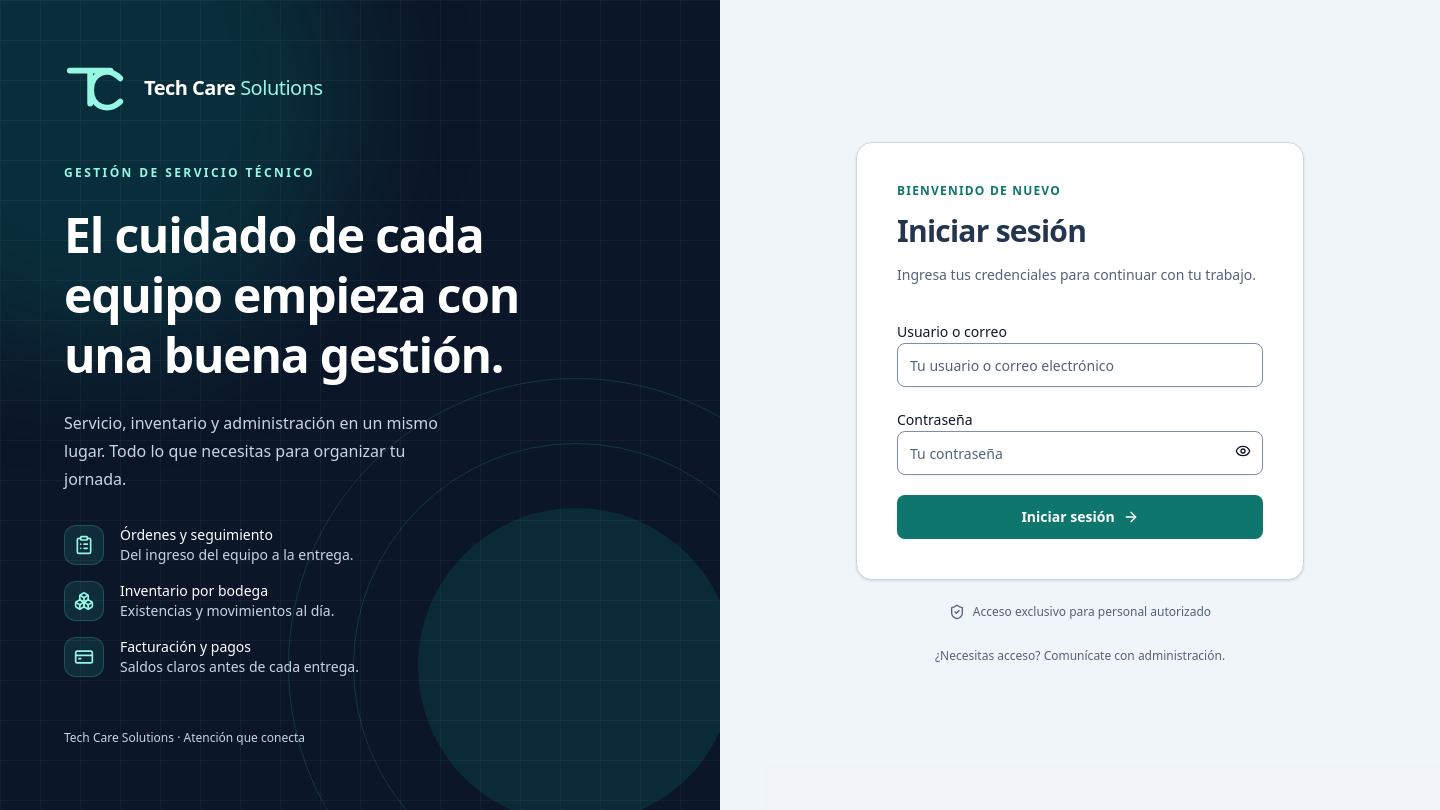
Scenario: inicio de sesión › muestra y oculta contraseña conservando sus espacios
In the password field labelled "Contraseña": (1080, 453) [897,431,1263,475], type " clave de prueba "
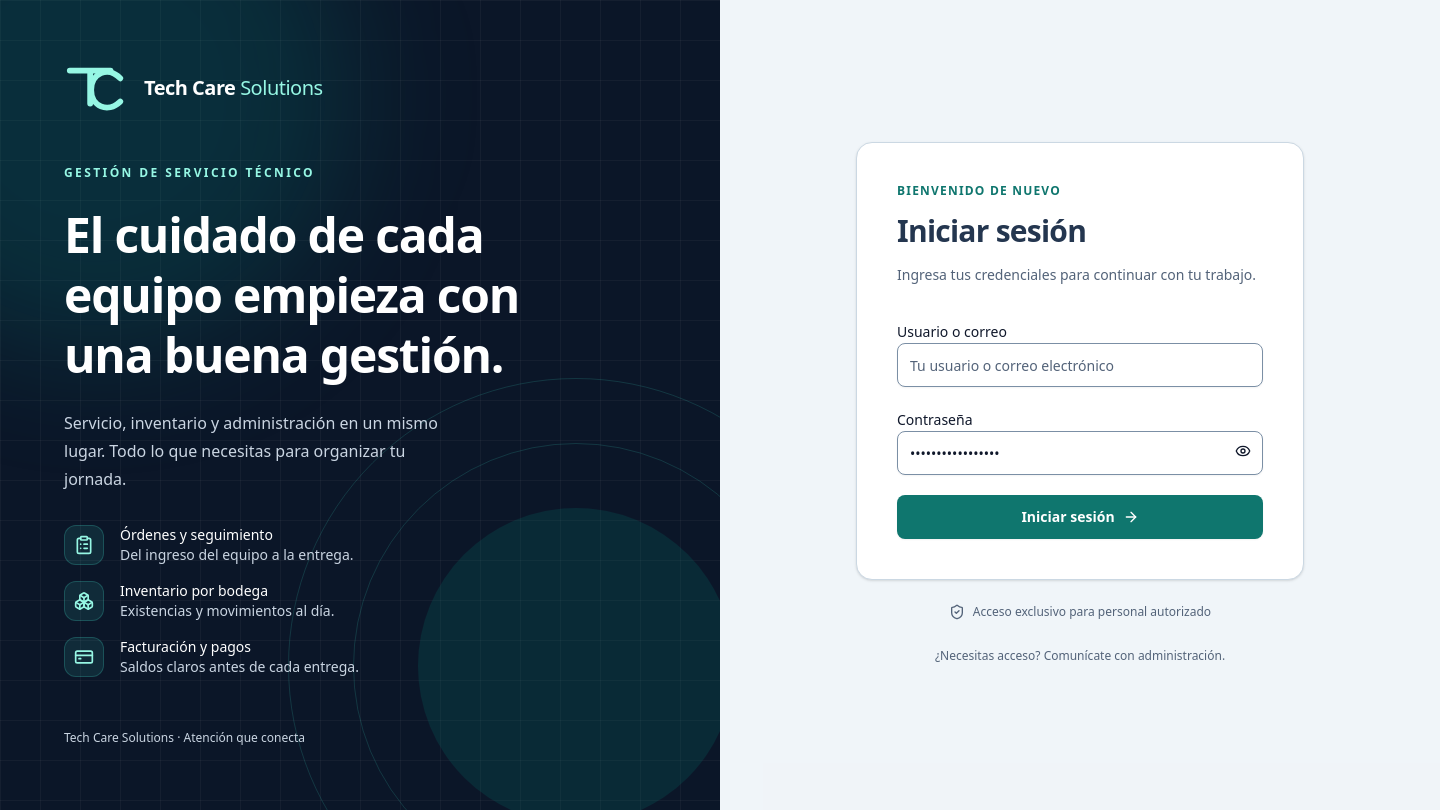
Click the button named "Mostrar contraseña": (1243, 451) [1223,431,1263,471]
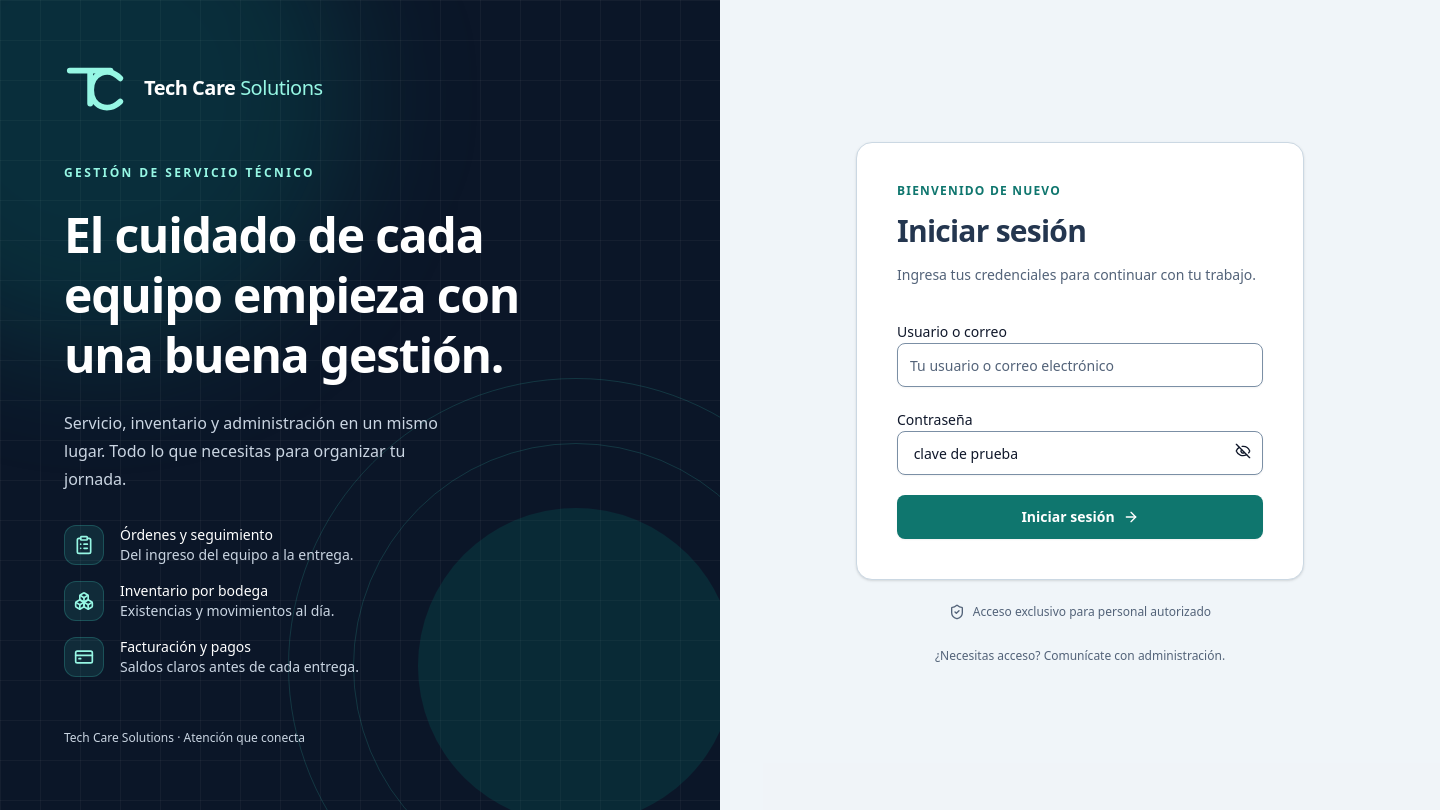
Result: the field labelled "Contraseña" shows its text at [897,431,1263,475]
Click the button named "Ocultar contraseña": (1243, 451) [1223,431,1263,471]
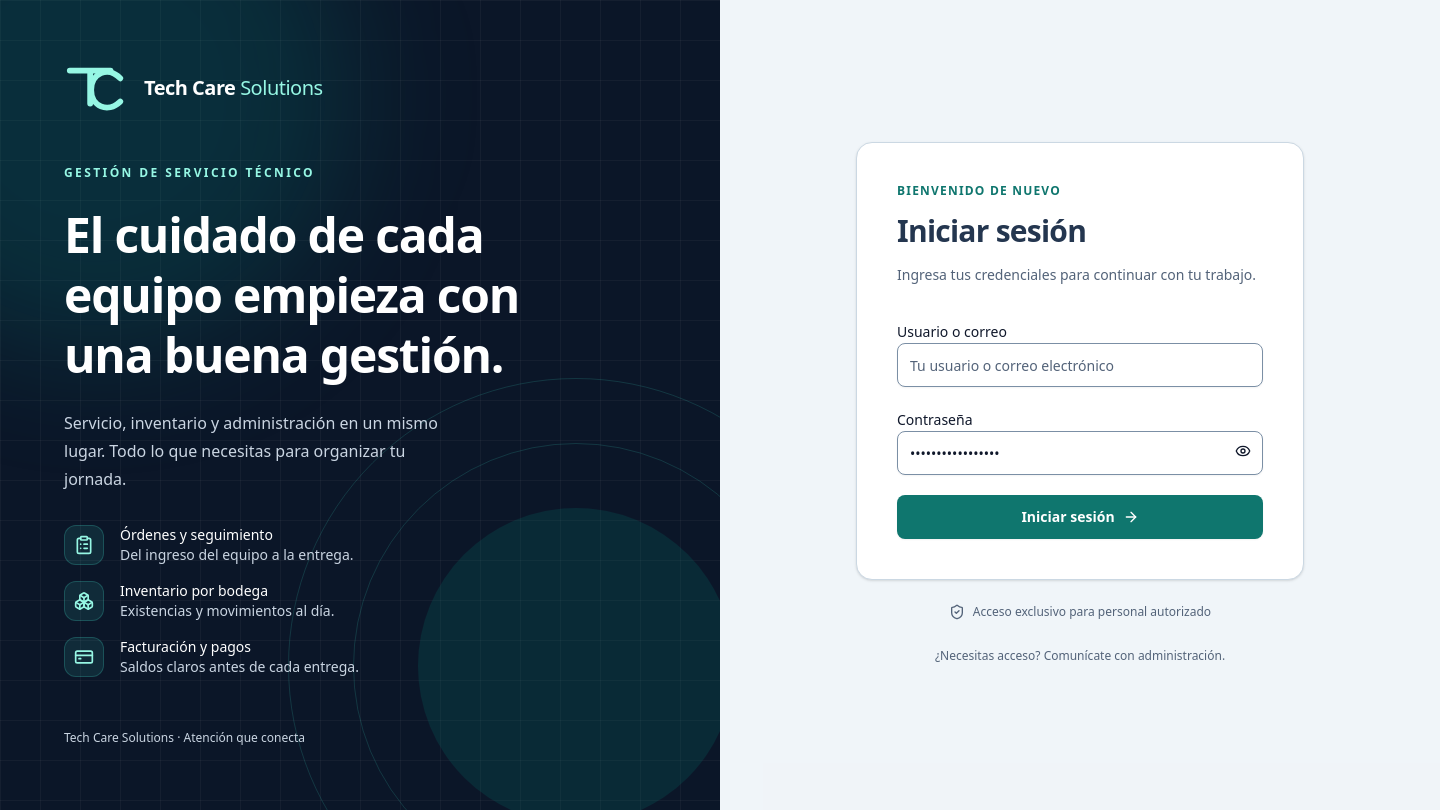
Result: the password field labelled "Contraseña" hides its text at [897,431,1263,475]
